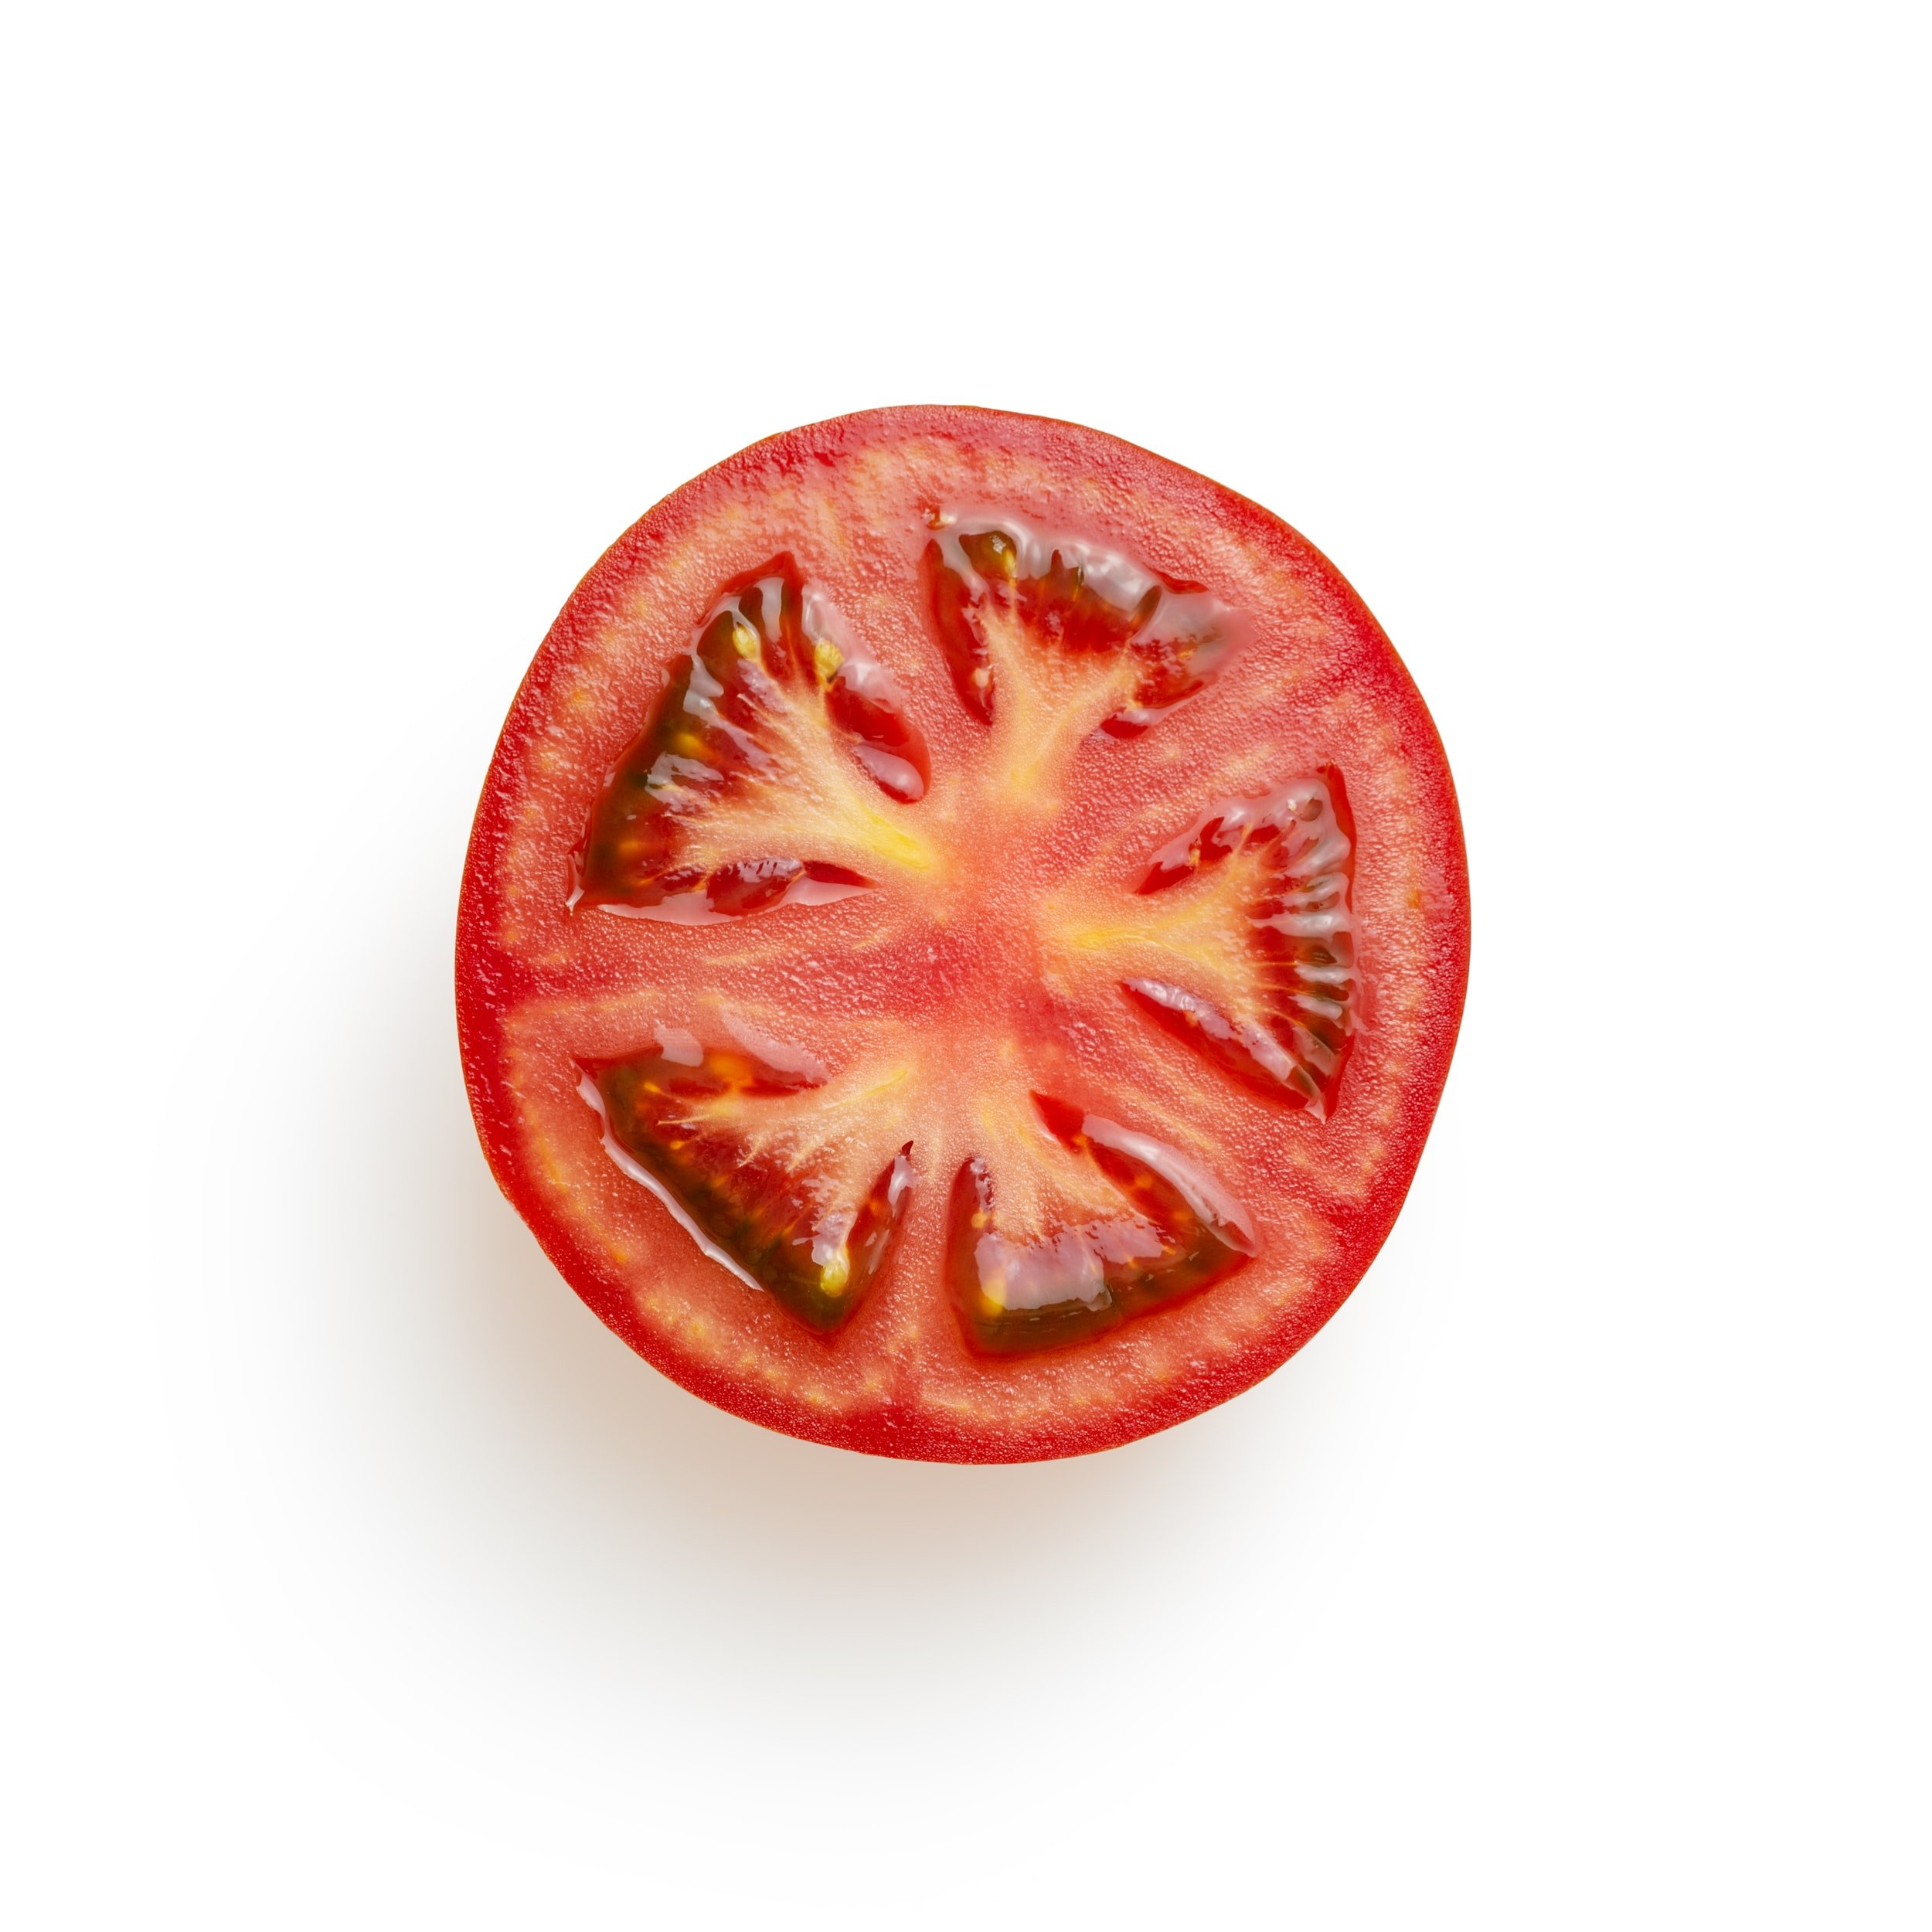tomato: (451, 403, 1476, 1472)
